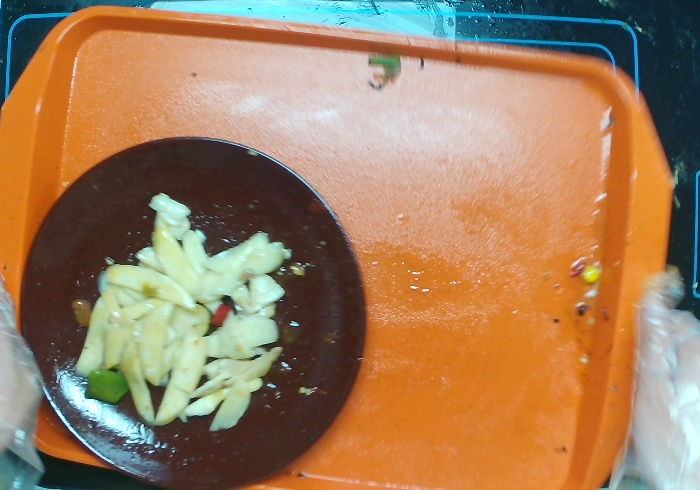HZYJPL-Ka_Fei_Yuan_Pan: (1, 100, 395, 490)
